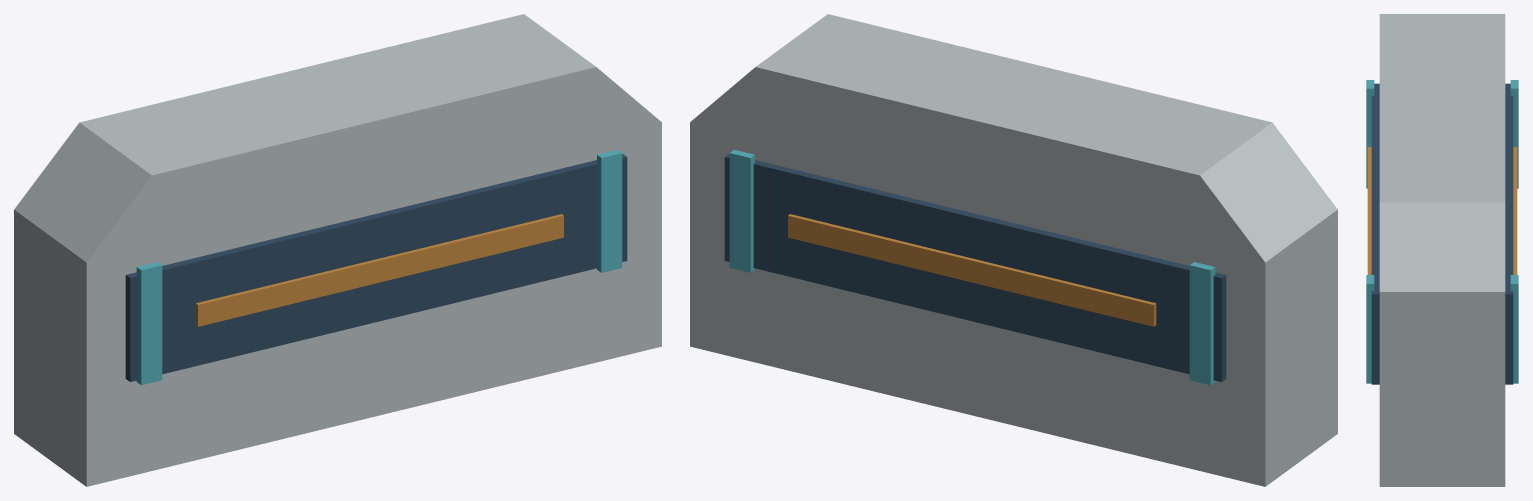
Rendered from SpaceStation_BulkheadBaffle_Standard.glb.
3 renders of one model, left to right at view 1: azimuth 30°, elevation 25°; view 2: azimuth 150°, elevation 25°; view 3: azimuth 270°, elevation 25°, orthographic. The views are drawn at different scales.
Parts seen in each view (by area): view 1: SpaceStation_BulkheadBaffle_Standard; view 2: SpaceStation_BulkheadBaffle_Standard; view 3: SpaceStation_BulkheadBaffle_Standard.
Part boxes in pixels (box(x1,y1,x2,y2)): SpaceStation_BulkheadBaffle_Standard: box(14, 14, 661, 486); SpaceStation_BulkheadBaffle_Standard: box(690, 14, 1337, 486); SpaceStation_BulkheadBaffle_Standard: box(1366, 14, 1518, 486).
Size of the model in its own units: 2.2 by 1.08 by 0.5808.
